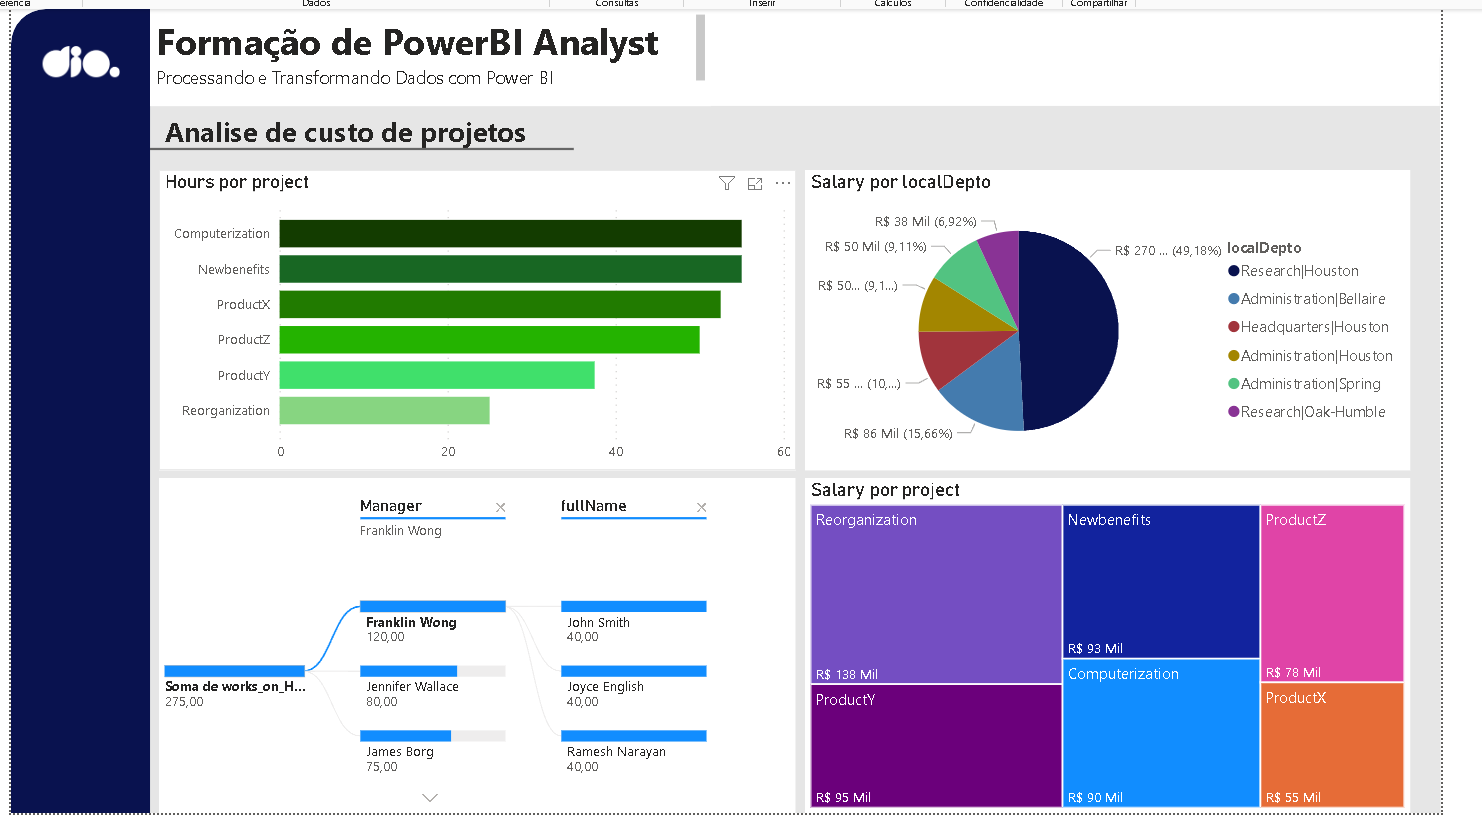

The page's visual inventory and layout, read from the dashboard file:
{"tool":"powerbi","page":{"name":"Página 1","canvas":[1280,720],"ordinal":0},"visuals":[{"type":"shape","box":[0,0,1280,719.9],"z":0},{"type":"shape","box":[124.2,419.8,1155.8,300.2],"z":1000},{"type":"shape","box":[0,0,124.7,720],"z":1500},{"type":"shape","box":[124.7,0,1155.3,86.8],"z":2000},{"type":"pieChart","title":"Salary por localDepto","fields":{"Category":["azure_company employee.localDepto"],"Y":["azure_company employee.Salary"]},"box":[710.7,143.8,541.7,269.1],"z":3000},{"type":"barChart","title":"Hours por project","fields":{"Category":["azure_company employee.project_Pname"],"Y":["azure_company employee.works_on_Hours"]},"box":[132.3,143.8,570.4,269.1],"z":4000},{"type":"decompositionTreeVisual","fields":{"ExplainBy":["azure_company employee.Manager","azure_company employee.fullName"],"Analyze":["azure_company employee.works_on_Hours"]},"box":[132.1,420,570.3,299.7],"z":5000},{"type":"textbox","box":[124.7,0,501.7,86.8],"z":7000},{"type":"image","box":[23.1,6.8,78.6,80],"z":8000},{"type":"textbox","box":[132.3,87.4,442.8,56.4],"z":9000},{"type":"shape","box":[124.2,0,379.5,250.7],"z":10000},{"type":"treemap","title":"Salary por project","fields":{"Group":["azure_company employee.project_Pname"],"Values":["azure_company employee.Salary"]},"box":[710.7,419.8,541.7,300.2],"z":10001}]}

Visuals, with their boxes in screenshot pixels (x1, y1, x2, y2):
shape: <region>4, 0, 1438, 807</region>
shape: <region>143, 470, 1438, 807</region>
shape: <region>4, 0, 144, 807</region>
shape: <region>144, 0, 1438, 97</region>
"Salary por localDepto" pieChart: <region>800, 161, 1407, 463</region>
"Hours por project" barChart: <region>152, 161, 791, 463</region>
decompositionTreeVisual - azure_company employee.Manager x azure_company employee.fullName: <region>152, 471, 791, 807</region>
textbox: <region>144, 0, 706, 97</region>
image: <region>30, 8, 118, 97</region>
textbox: <region>152, 98, 648, 161</region>
shape: <region>143, 0, 568, 281</region>
"Salary por project" treemap: <region>800, 470, 1407, 807</region>
